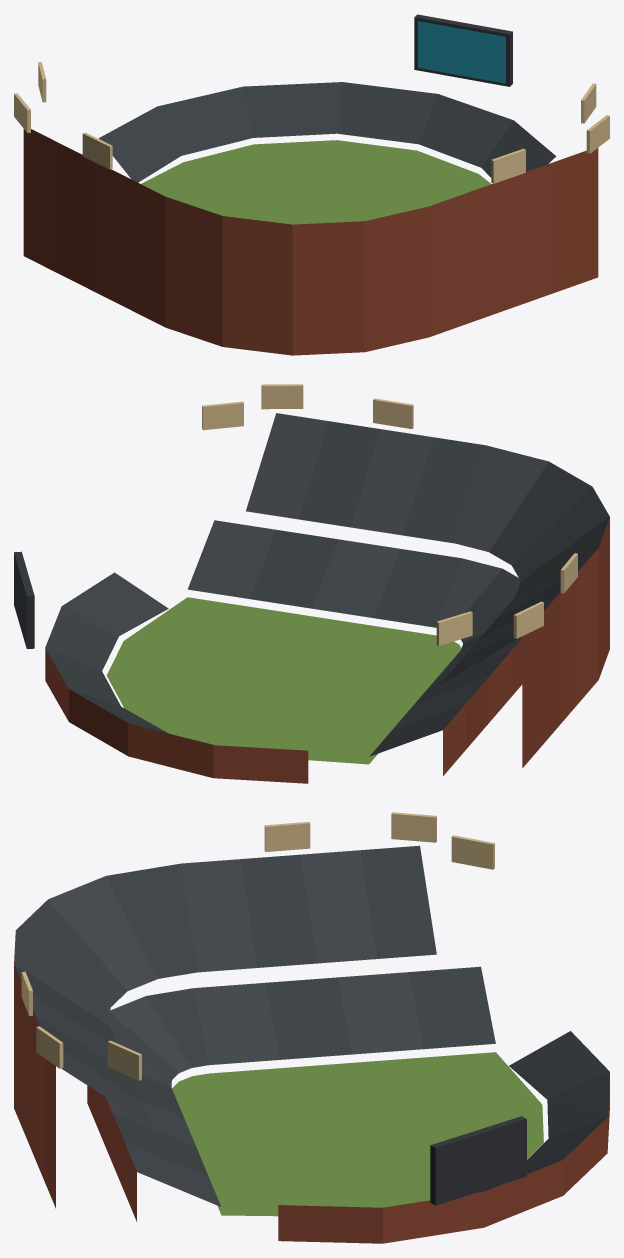
3 renders of one model, top to bottom at view 1: azimuth 30°, elevation 25°; view 2: azimuth 150°, elevation 25°; view 3: azimuth 270°, elevation 25°, orthographic. The views are drawn at different scales.
Visible parts, largest first — view 1: queens-ballpark-lod3; view 2: queens-ballpark-lod3; view 3: queens-ballpark-lod3.
Boxes of the visible parts, <box> form: queens-ballpark-lod3: <box>14,14,609,355</box>; queens-ballpark-lod3: <box>14,384,609,783</box>; queens-ballpark-lod3: <box>14,812,609,1243</box>.
Bounding box in the file's own units: 258 × 76.79 × 240.
